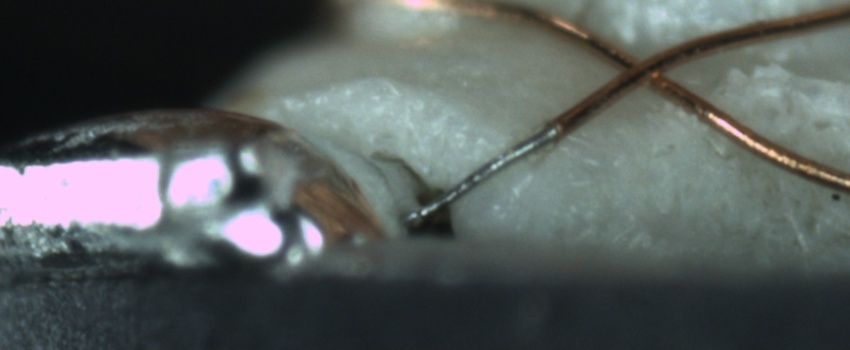CL: (607, 43, 678, 96)
TS: (409, 127, 558, 223)
TTCW: (404, 93, 591, 227)
